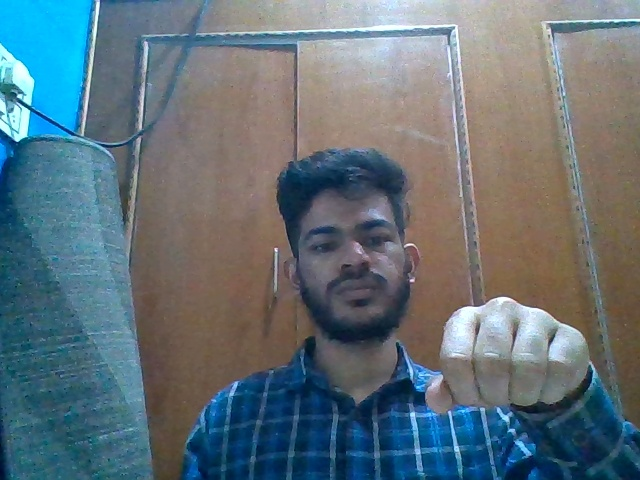yes: (421, 293, 600, 417)
